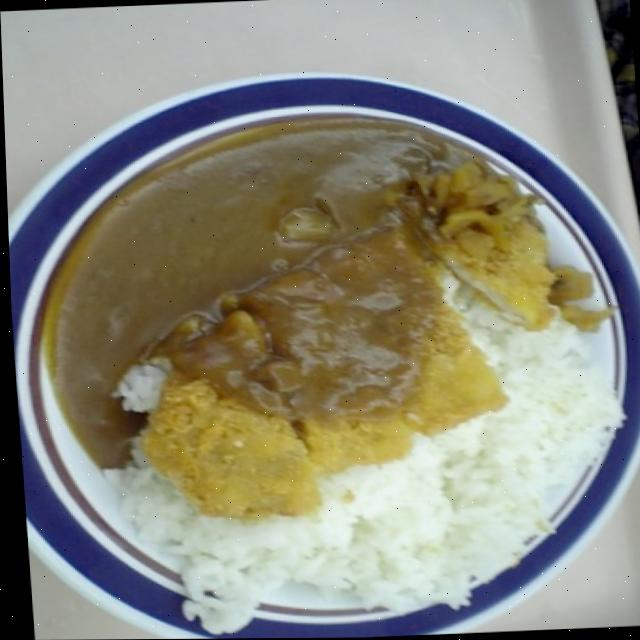猪肉菜式: (3, 92, 630, 640)
